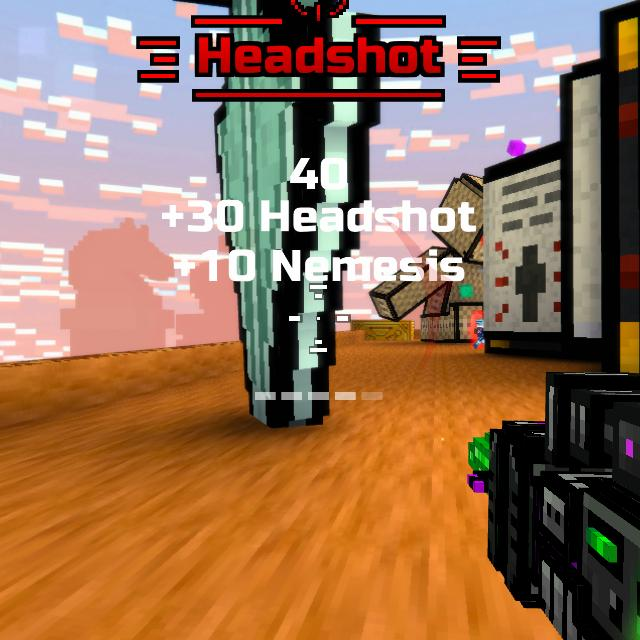Enemy: (471, 319, 483, 350)
